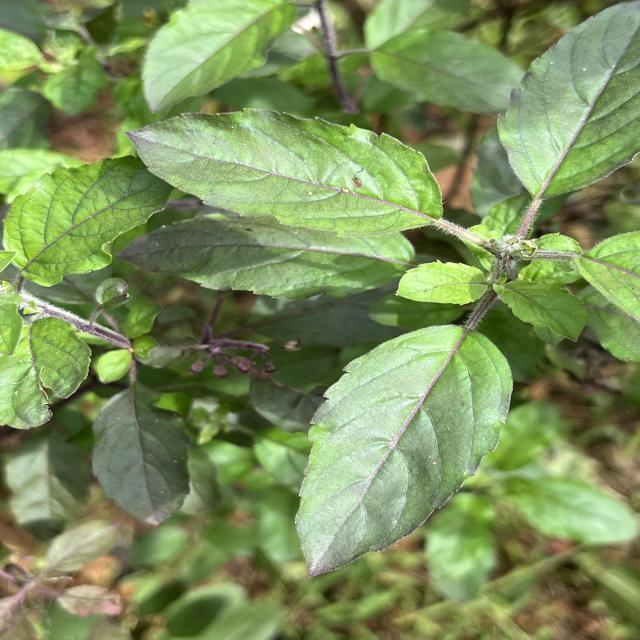Ocimum tenuiflorum: (292, 322, 518, 582), (122, 104, 446, 236)
